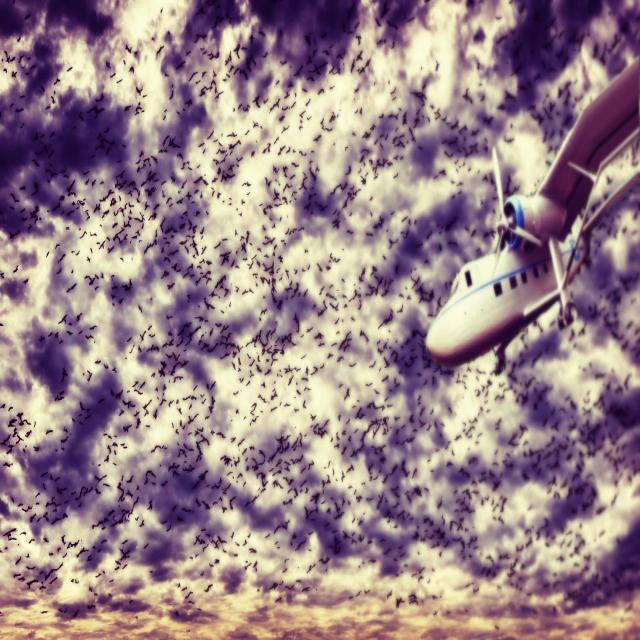airplane: (424, 55, 639, 373)
